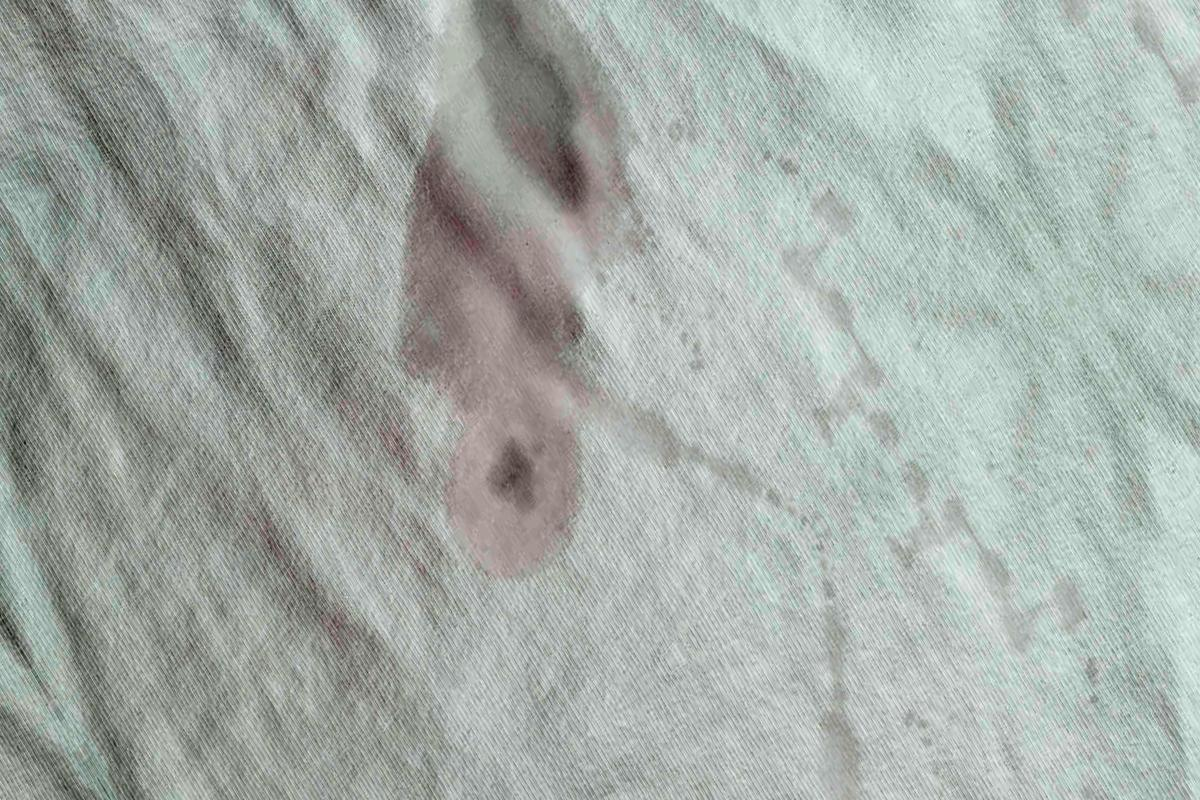stain: (386, 0, 678, 584)
